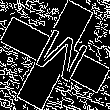M_SW: (23, 22, 87, 88)
